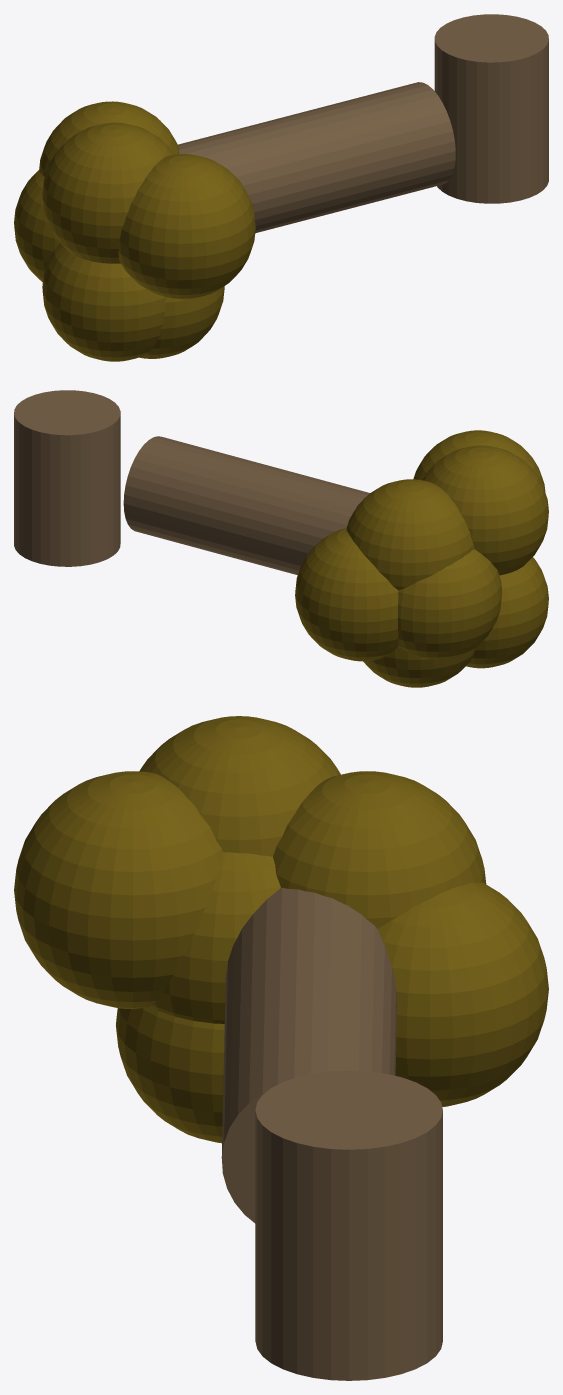
File: CutTree.fbx
3 views of the same model, one above another, from view 1: azimuth 30°, elevation 25°; view 2: azimuth 150°, elevation 25°; view 3: azimuth 270°, elevation 25° (orthographic). The views are drawn at different scales.
Parts seen in each view (by area): view 1: Cylinder.001, Cylinder, Sphere.003, Sphere.007, Sphere.008, Sphere.004, Sphere.001, Sphere.005; view 2: Cylinder.001, Cylinder, Sphere.006, Sphere.007, Sphere.004, Sphere.005, Sphere.008, Sphere, Sphere.003; view 3: Cylinder, Sphere.003, Cylinder.001, Sphere.006, Sphere.004, Sphere.007, Sphere.001, Sphere.002.
Boxes of the visible parts, x1=… form: Cylinder.001: x1=178, y1=82, x2=455, y2=233; Cylinder: x1=434, y1=14, x2=548, y2=203; Sphere.003: x1=118, y1=154, x2=255, y2=299; Sphere.007: x1=42, y1=122, x2=174, y2=263; Sphere.008: x1=42, y1=243, x2=165, y2=361; Sphere.004: x1=39, y1=101, x2=179, y2=176; Sphere.001: x1=139, y1=286, x2=224, y2=358; Sphere.005: x1=14, y1=170, x2=60, y2=282; Cylinder.001: x1=123, y1=436, x2=369, y2=574; Cylinder: x1=14, y1=390, x2=120, y2=566; Sphere.006: x1=295, y1=528, x2=398, y2=661; Sphere.007: x1=423, y1=445, x2=548, y2=575; Sphere.004: x1=346, y1=479, x2=474, y2=590; Sphere.005: x1=398, y1=549, x2=502, y2=660; Sphere.008: x1=466, y1=557, x2=548, y2=668; Sphere: x1=363, y1=646, x2=474, y2=687; Sphere.003: x1=413, y1=430, x2=545, y2=491; Cylinder: x1=255, y1=1070, x2=442, y2=1380; Sphere.003: x1=14, y1=771, x2=223, y2=1009; Cylinder.001: x1=221, y1=887, x2=397, y2=1223; Sphere.006: x1=377, y1=882, x2=548, y2=1106; Sphere.004: x1=273, y1=771, x2=486, y2=928; Sphere.007: x1=139, y1=716, x2=340, y2=856; Sphere.001: x1=116, y1=1006, x2=224, y2=1143; Sphere.002: x1=150, y1=852, x2=280, y2=1023.
Size of the model in its own units: 220 by 92.56 by 119.
